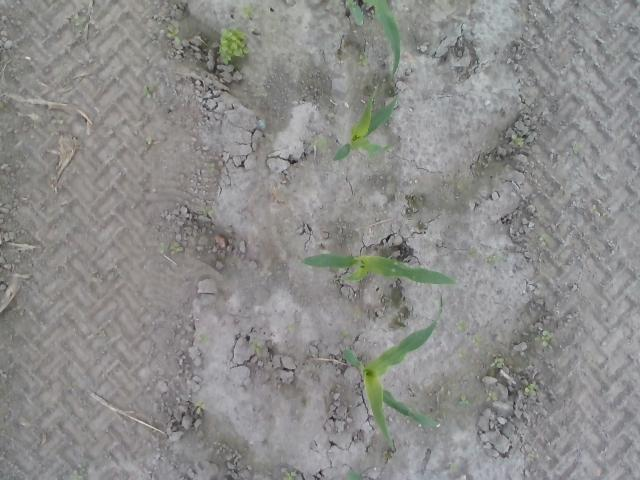Maize: (337, 292, 444, 452), (298, 253, 456, 286), (343, 0, 402, 80), (333, 92, 398, 162)
Weeds: (219, 26, 249, 64), (158, 241, 184, 256), (166, 25, 180, 44), (142, 83, 156, 98), (248, 339, 262, 354), (537, 333, 552, 347), (194, 401, 208, 415), (456, 393, 469, 406), (511, 134, 524, 146), (240, 3, 252, 16), (493, 356, 504, 368), (358, 54, 368, 66), (284, 470, 296, 480), (525, 382, 535, 394), (456, 320, 466, 331), (486, 391, 496, 401)
